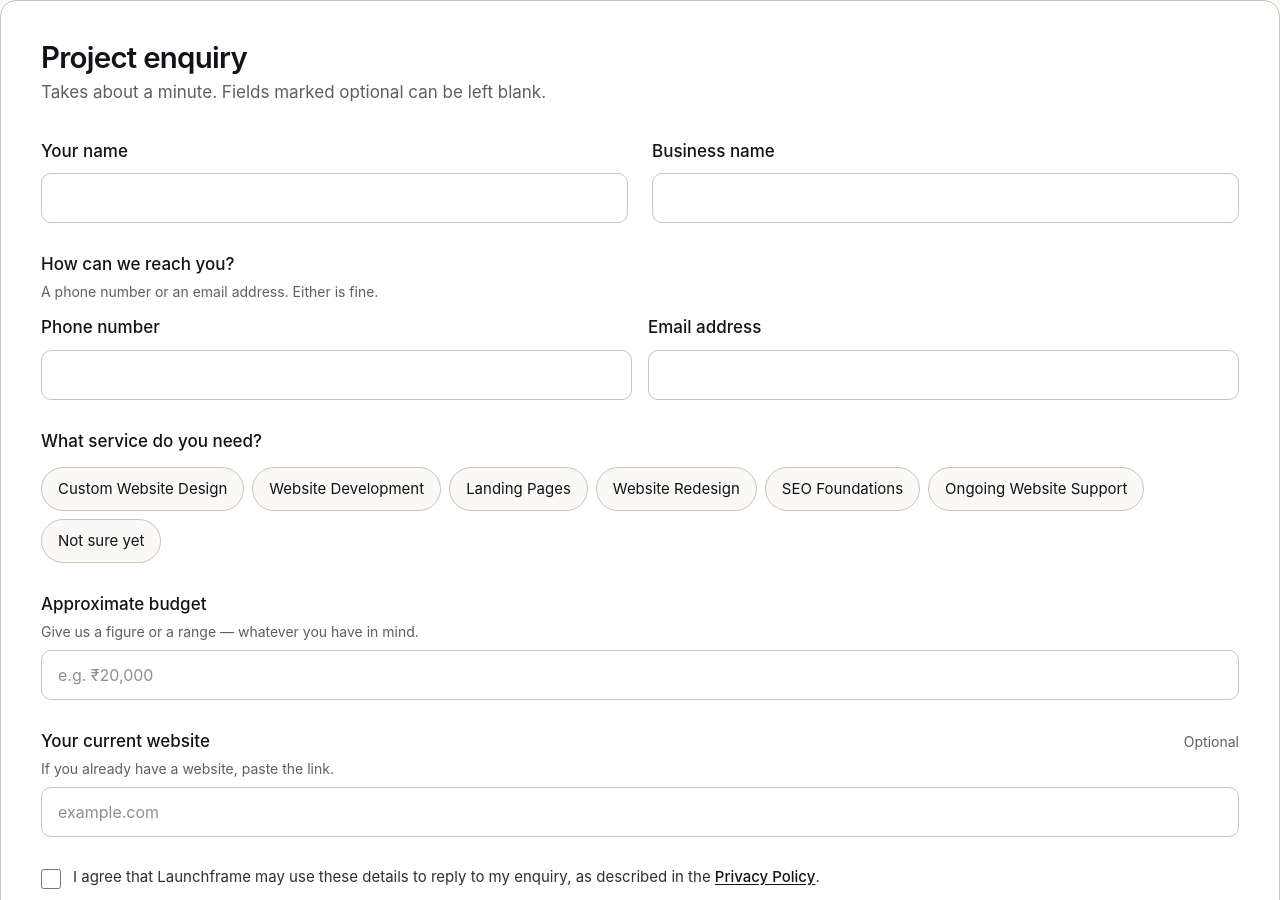
Test: EnquiryForm › shows an error, not success, when the server cannot deliver
This screenshot has width=1280, height=900.
Type "Sam Rivera" into the field labelled "Your name" at (334, 198), box [41, 173, 628, 223]
Type "Rivera Plumbing" into the field labelled "Business name" at (946, 198), box [652, 173, 1239, 223]
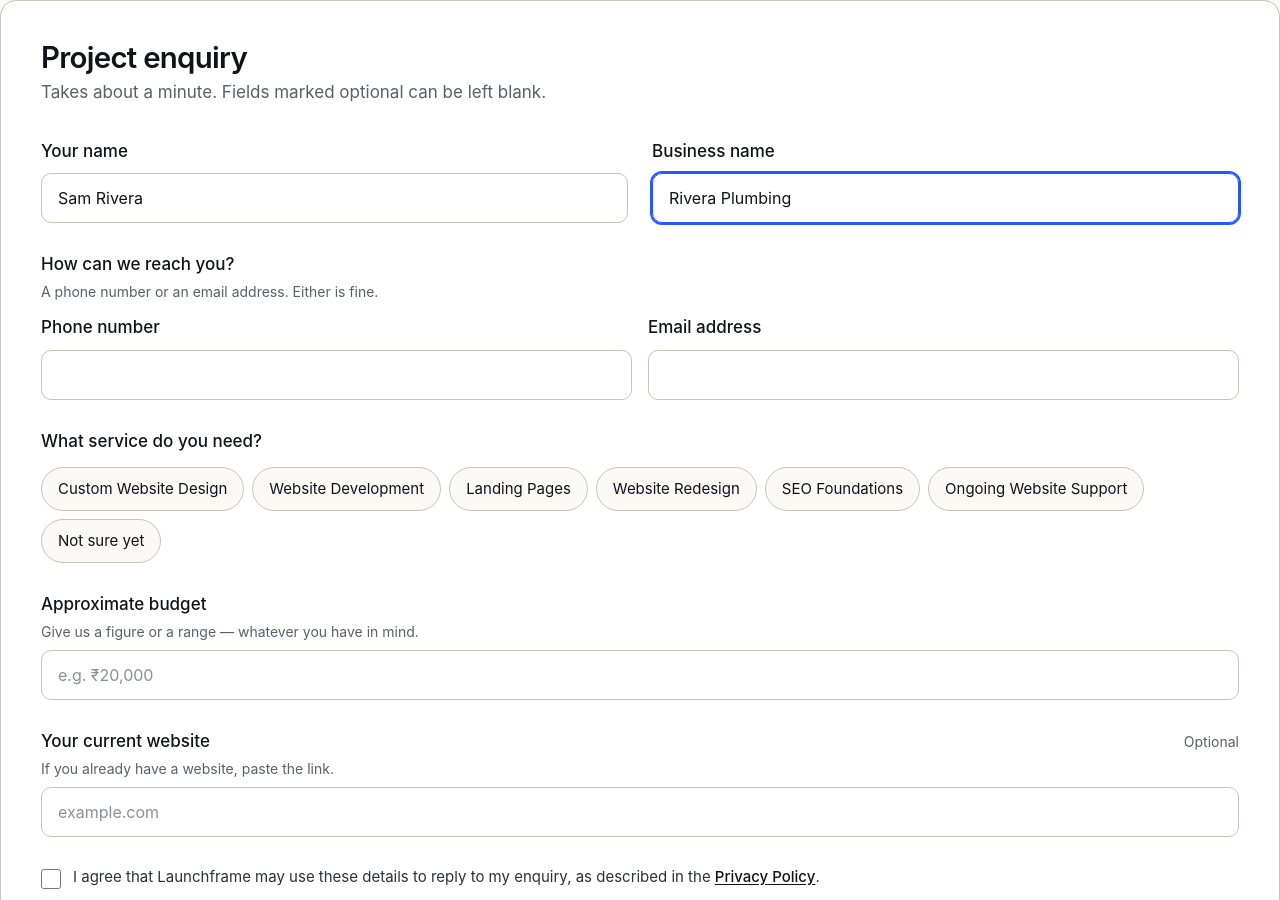
Type "sam@example.com" into the field labelled "Email address" at (944, 375), box [648, 350, 1239, 400]
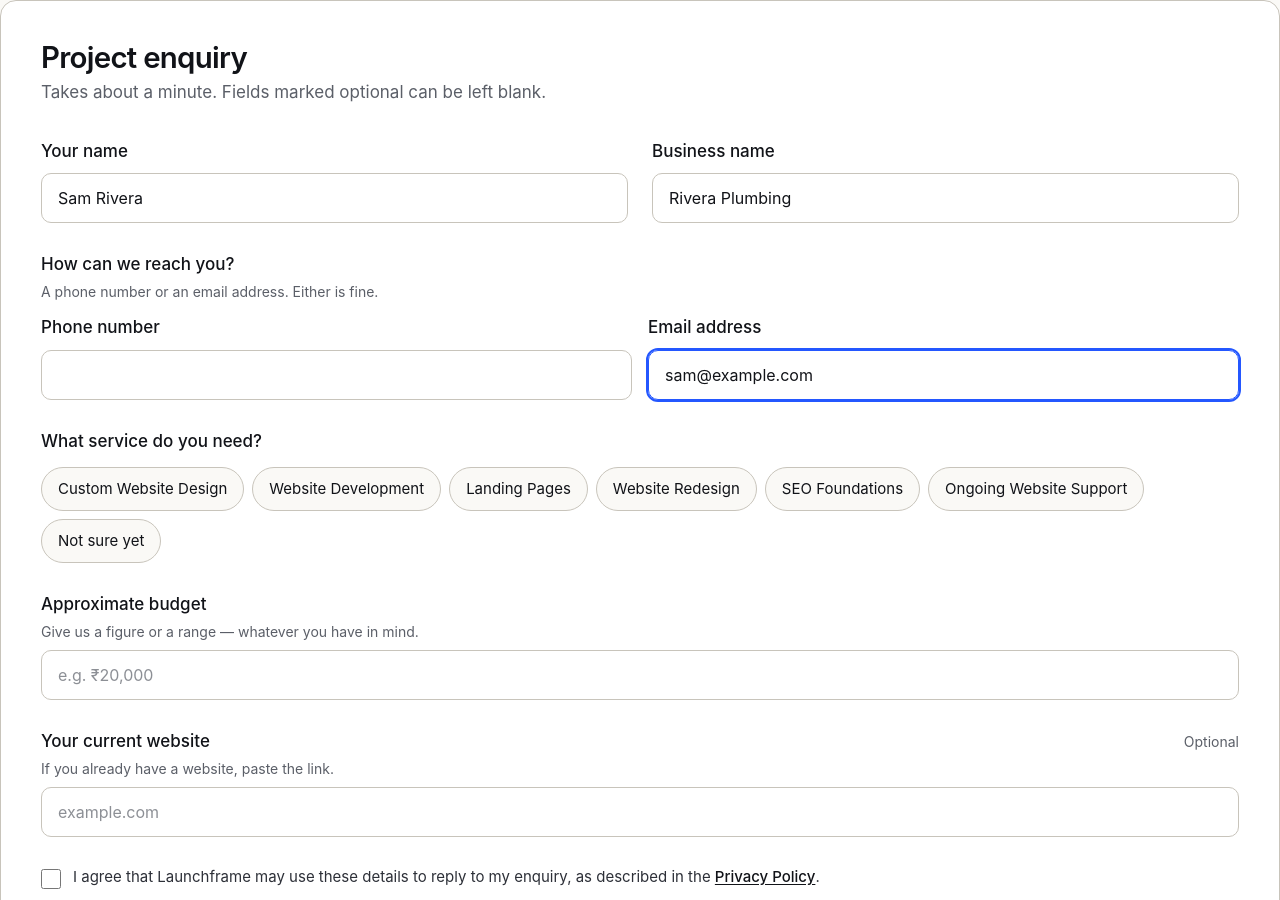
Click the radio button labelled "Website Redesign" at (676, 489), box [596, 467, 757, 511]
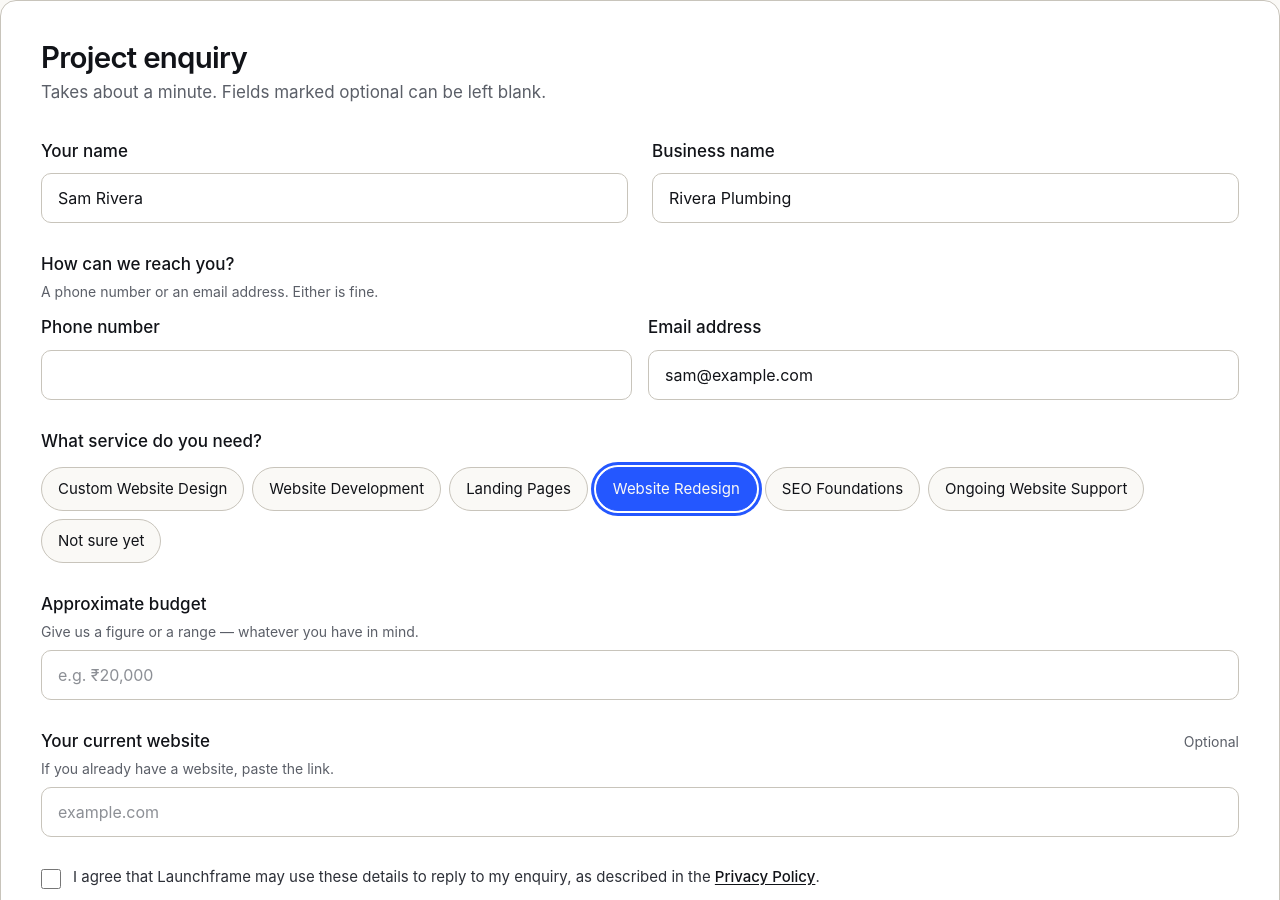
Type "₹20,000" into the field labelled "Approximate budget" at (640, 675), box [41, 650, 1239, 700]
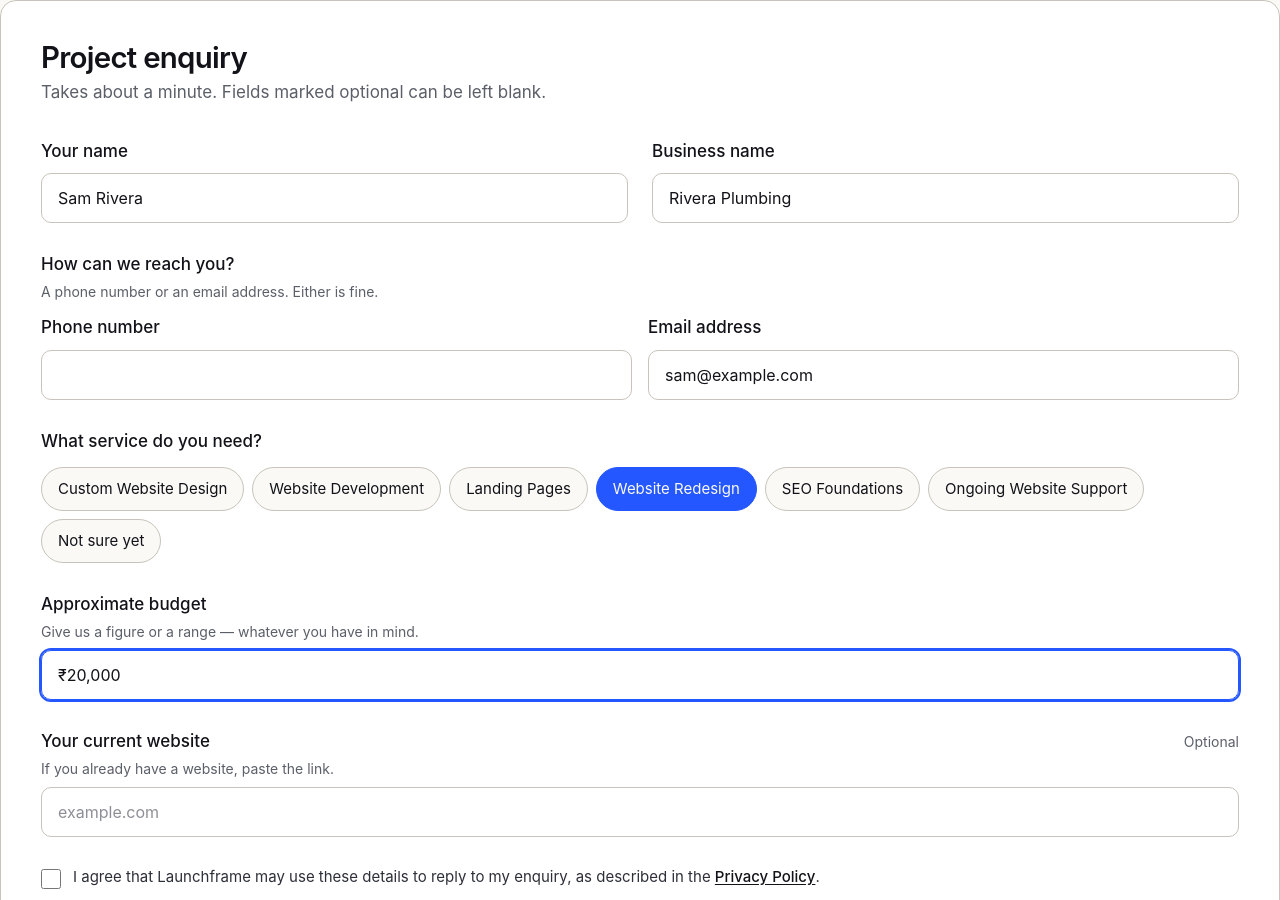
Click the checkbox labelled "I agree" at (51, 879), box [41, 869, 61, 889]
(page scrolled)
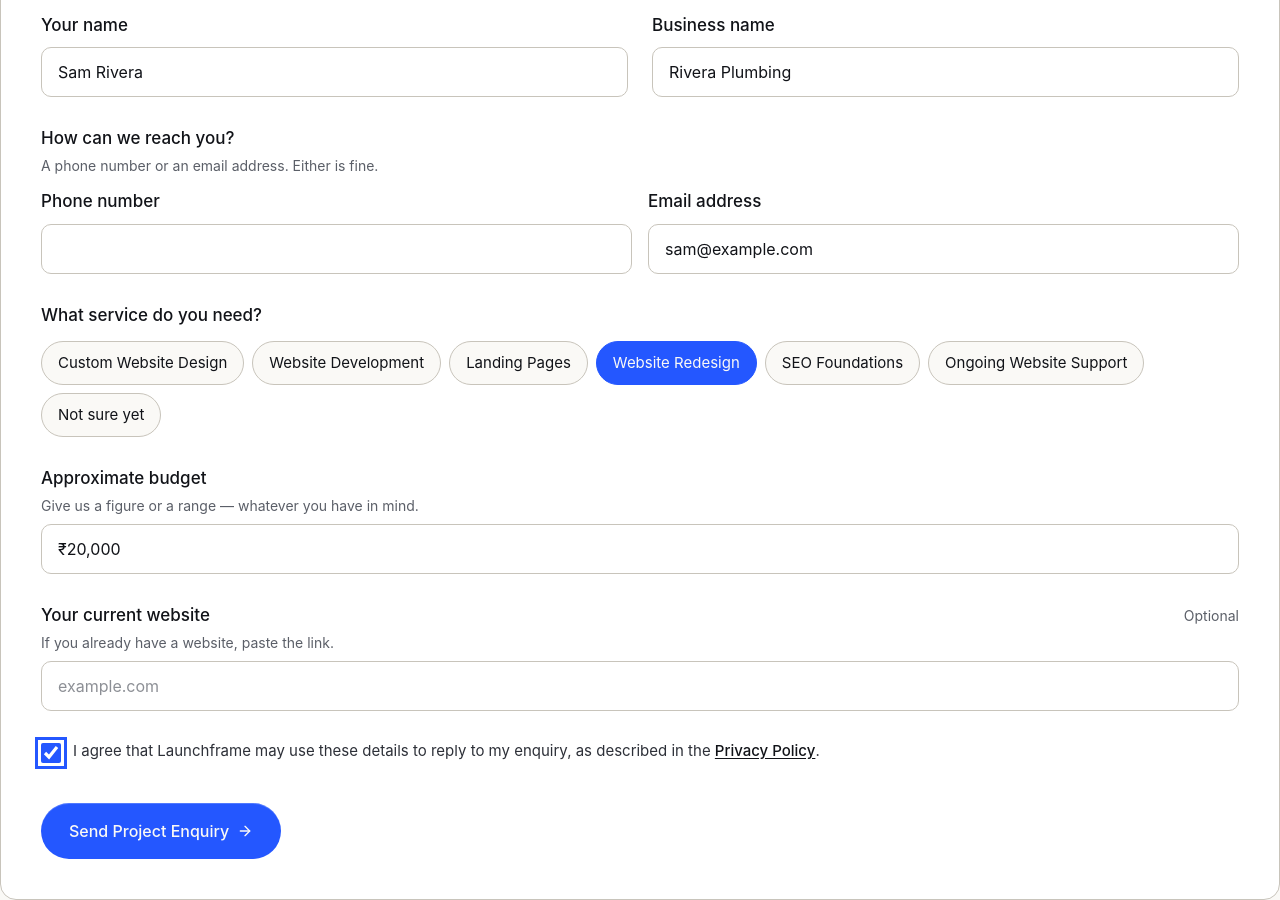
Click the button "Send Project Enquiry" at (161, 831), box [41, 803, 281, 859]
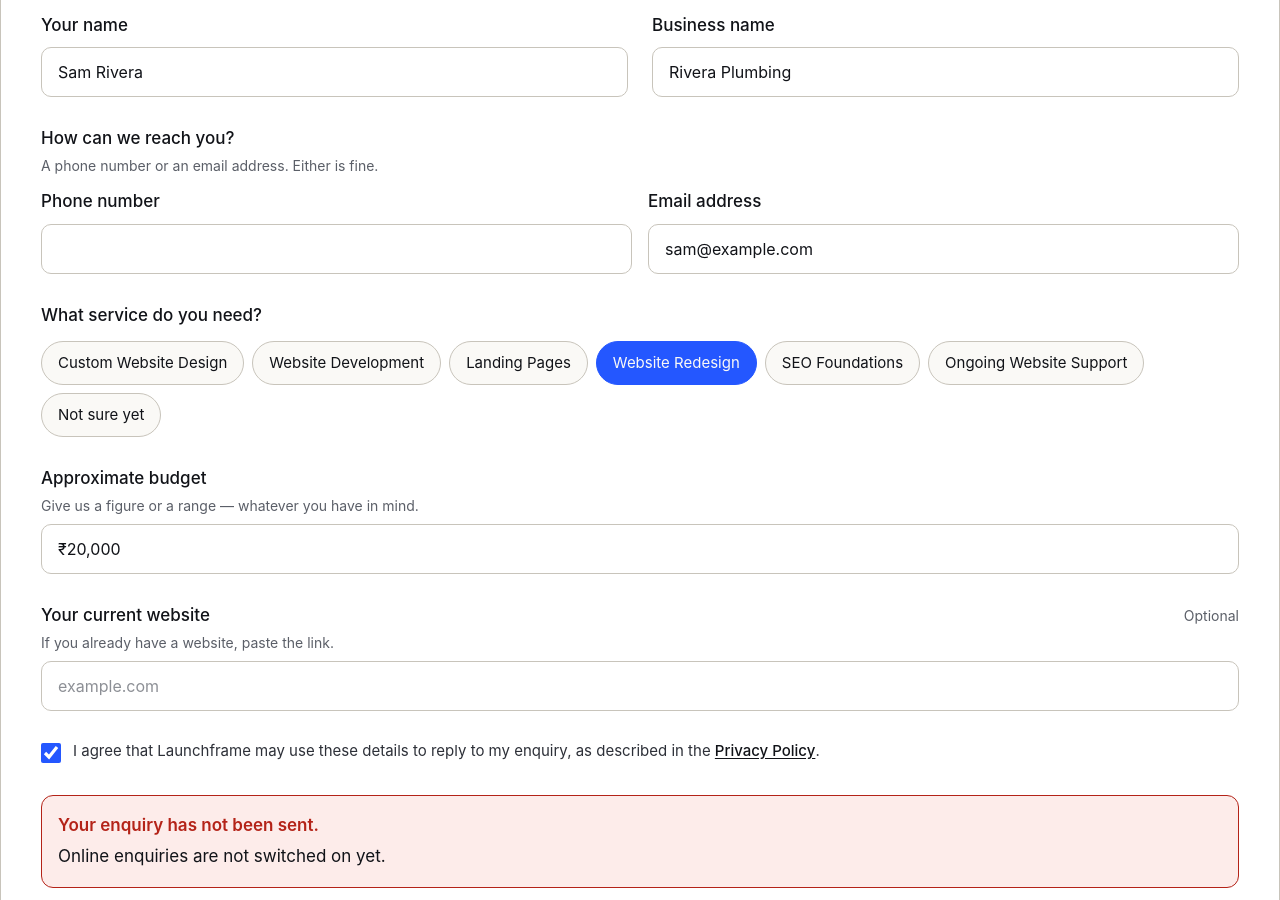
Result: the text "Your enquiry has not been sent." is shown at [58, 815, 319, 835]
